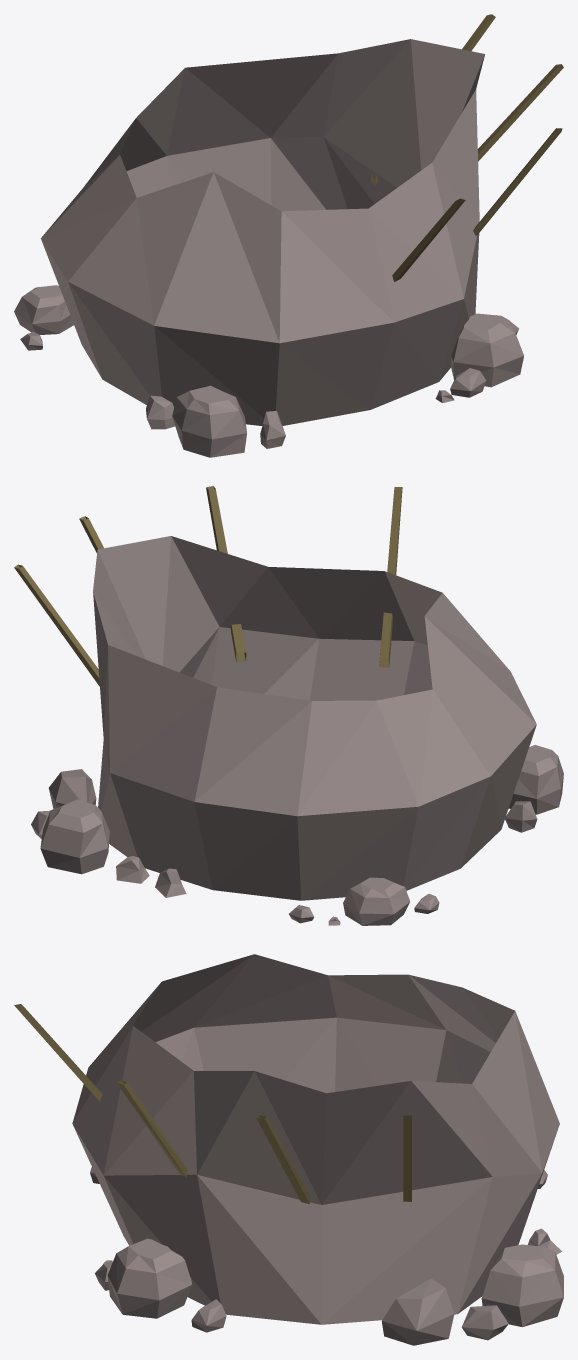
The model's file is obj_rune_essence_0.obj.
The picture shows the model from 3 angles, top to bottom: view 1: azimuth 30°, elevation 25°; view 2: azimuth 150°, elevation 25°; view 3: azimuth 270°, elevation 25°; orthographic projection. The views are drawn at different scales.
Bounding box in the file's own units: 5.56 × 2.73 × 5.38.
